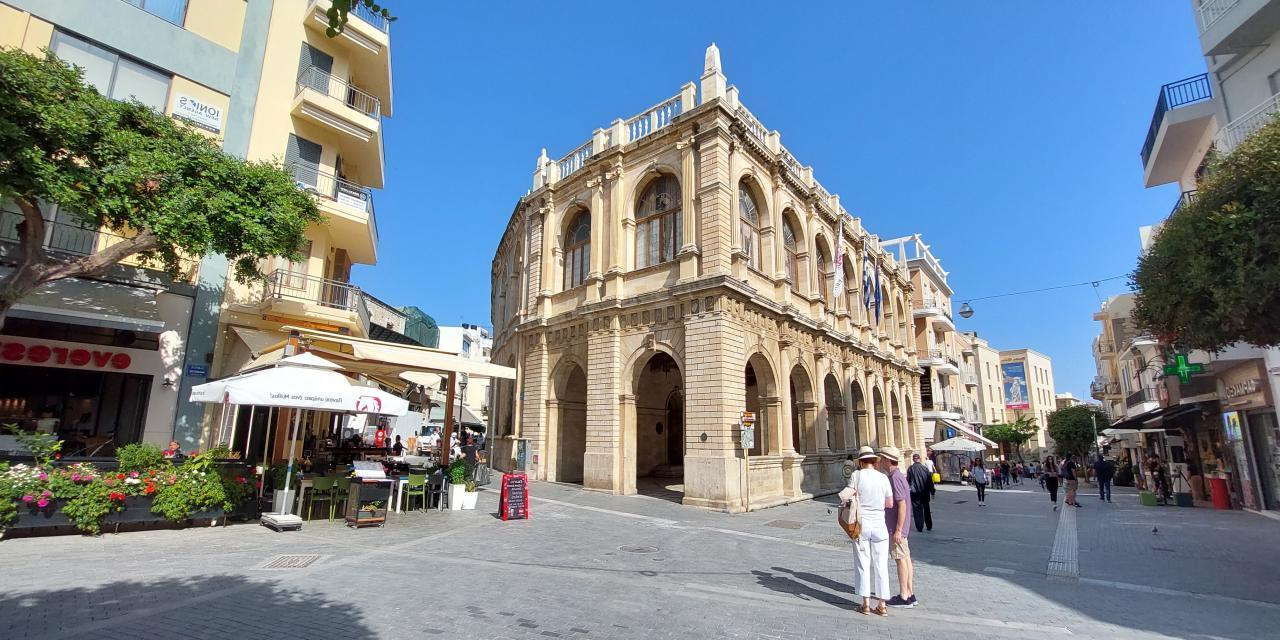Loggia: (481, 34, 928, 514)
